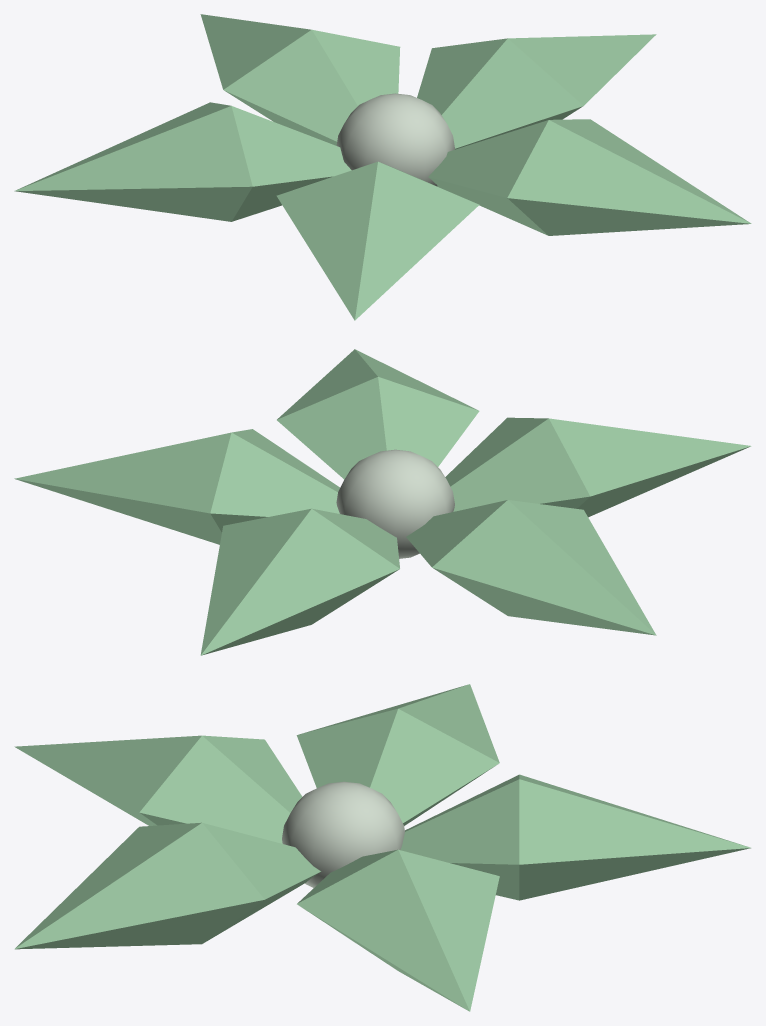
The model's file is golden_fern.glb.
3 views of the same model, one above another, from view 1: azimuth 30°, elevation 25°; view 2: azimuth 150°, elevation 25°; view 3: azimuth 270°, elevation 25° (orthographic). The views are drawn at different scales.
Visible parts, largest first — view 1: GS_Fern_Leaf3_LeafGreen, GS_Fern_Leaf1_LeafGreen, GS_Fern_Leaf4_LeafGreen, GS_Fern_Leaf2_LeafGreen, GS_Fern_Leaf0_LeafGreen, GS_Fern_Bud_StoneLight; view 2: GS_Fern_Leaf1_LeafGreen, GS_Fern_Leaf4_LeafGreen, GS_Fern_Leaf0_LeafGreen, GS_Fern_Leaf2_LeafGreen, GS_Fern_Leaf3_LeafGreen, GS_Fern_Bud_StoneLight; view 3: GS_Fern_Leaf3_LeafGreen, GS_Fern_Leaf0_LeafGreen, GS_Fern_Leaf4_LeafGreen, GS_Fern_Leaf2_LeafGreen, GS_Fern_Leaf1_LeafGreen, GS_Fern_Bud_StoneLight.
Boxes of the visible parts, bbox=[...] form: GS_Fern_Leaf3_LeafGreen: bbox=[428, 119, 751, 235]; GS_Fern_Leaf1_LeafGreen: bbox=[14, 102, 351, 221]; GS_Fern_Leaf4_LeafGreen: bbox=[417, 34, 656, 149]; GS_Fern_Leaf2_LeafGreen: bbox=[276, 161, 479, 320]; GS_Fern_Leaf0_LeafGreen: bbox=[200, 14, 400, 145]; GS_Fern_Bud_StoneLight: bbox=[336, 93, 454, 186]; GS_Fern_Leaf1_LeafGreen: bbox=[406, 500, 656, 635]; GS_Fern_Leaf4_LeafGreen: bbox=[14, 429, 339, 544]; GS_Fern_Leaf0_LeafGreen: bbox=[200, 508, 399, 655]; GS_Fern_Leaf2_LeafGreen: bbox=[445, 417, 751, 517]; GS_Fern_Leaf3_LeafGreen: bbox=[277, 349, 479, 479]; GS_Fern_Bud_StoneLight: bbox=[336, 449, 454, 558]; GS_Fern_Leaf3_LeafGreen: bbox=[14, 822, 320, 949]; GS_Fern_Leaf0_LeafGreen: bbox=[400, 774, 750, 900]; GS_Fern_Leaf4_LeafGreen: bbox=[297, 849, 499, 1011]; GS_Fern_Leaf2_LeafGreen: bbox=[14, 735, 302, 843]; GS_Fern_Leaf1_LeafGreen: bbox=[296, 684, 499, 825]; GS_Fern_Bud_StoneLight: bbox=[282, 781, 404, 887].
Size of the model in its own units: 3.99 by 0.69 by 3.8.
